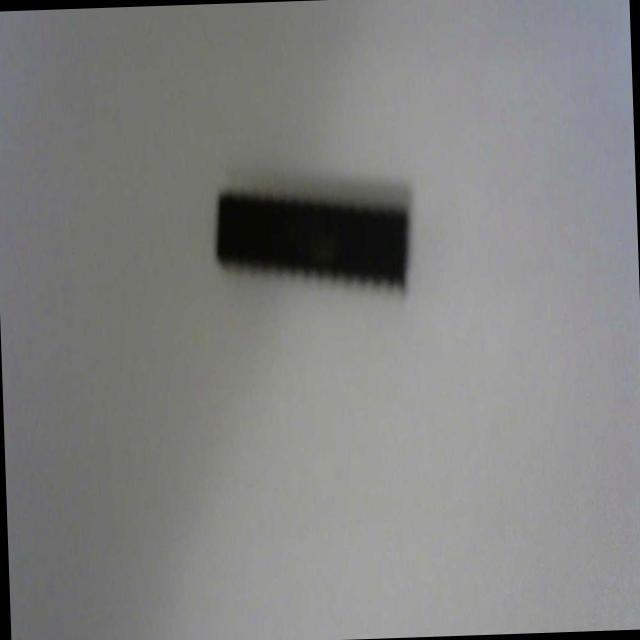atmega: (210, 173, 416, 306)
